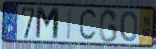7: (20, 6, 35, 40)
C: (78, 7, 99, 44)
G: (98, 8, 118, 45)
I: (66, 8, 74, 42)
M: (34, 6, 61, 42)
O: (119, 11, 138, 44)
